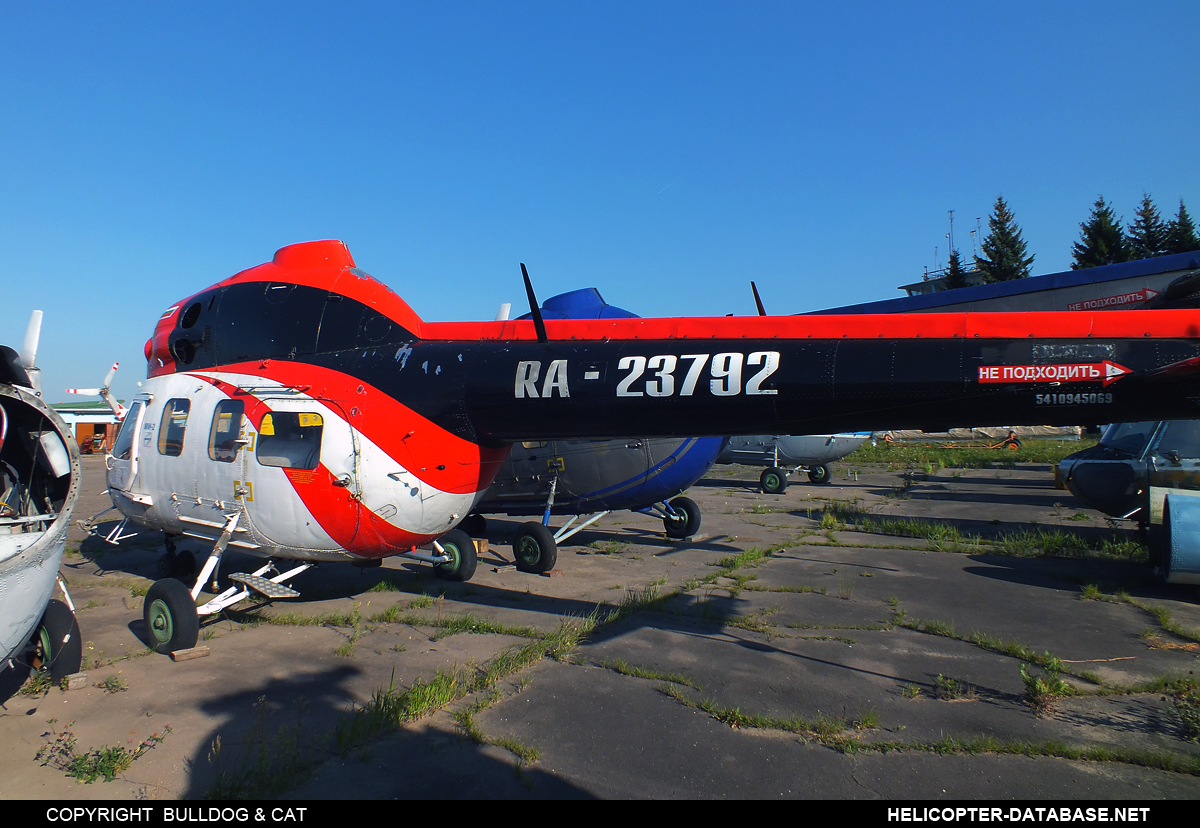number: (502, 345, 796, 405)
